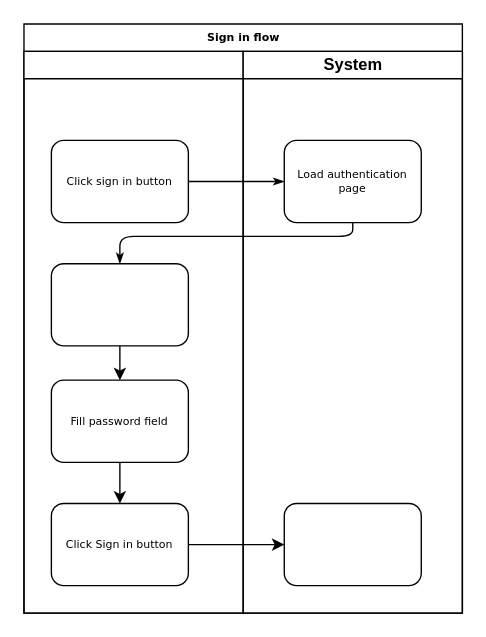
The diagram is 486 pixels wide and 637 high, and some of its shapes have lost their labels. The box of each missing label's shape, as (x1, y1, x2, y2) in pixels:
Fill email address field: (50, 262, 188, 346)
Load My Account page: (283, 502, 421, 586)
User: (23, 50, 243, 613)
